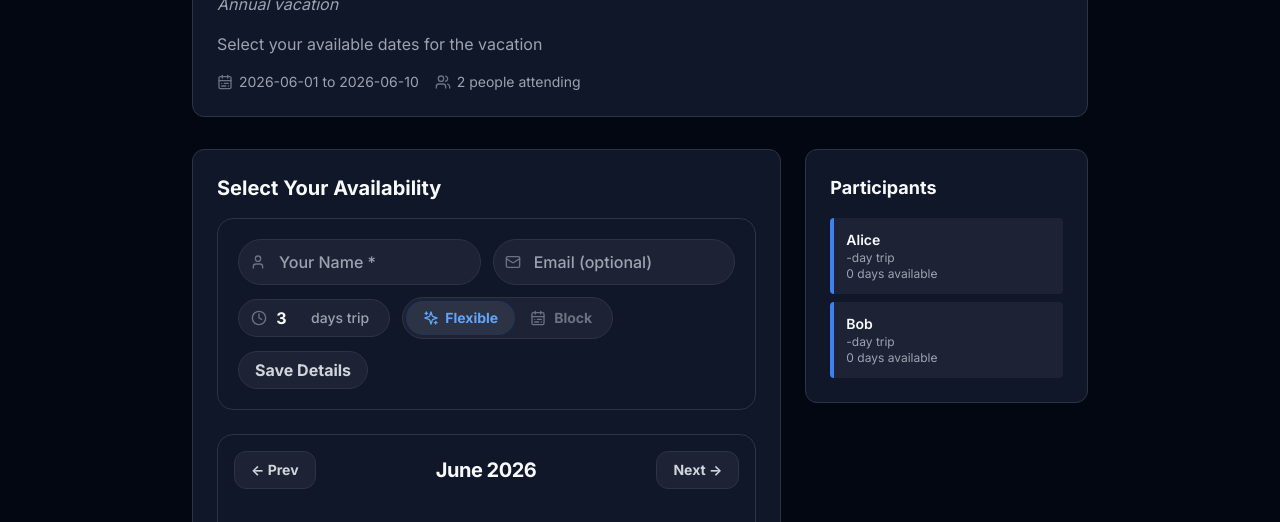
Test: ParticipantView - Duplicate Name Check › blocks submission and shows error if name already exists
Note: Fill in a duplicate name ("ALICE" vs "Alice")
Type "ALICE" into the field with placeholder "Your Name *" at (359, 262), box x1=238 y1=239 x2=481 y2=285
(page scrolled)
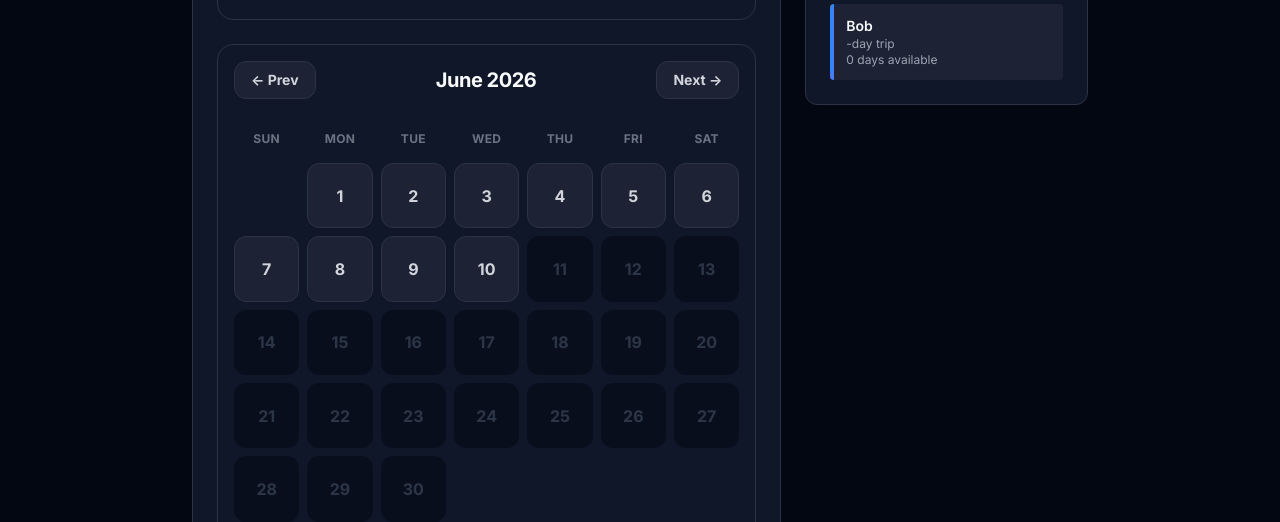
Note: Select a day to enable the Submit button
Click the button with test id "day-2026-06-01" at (340, 196), box x1=307 y1=163 x2=373 y2=228
(page scrolled)
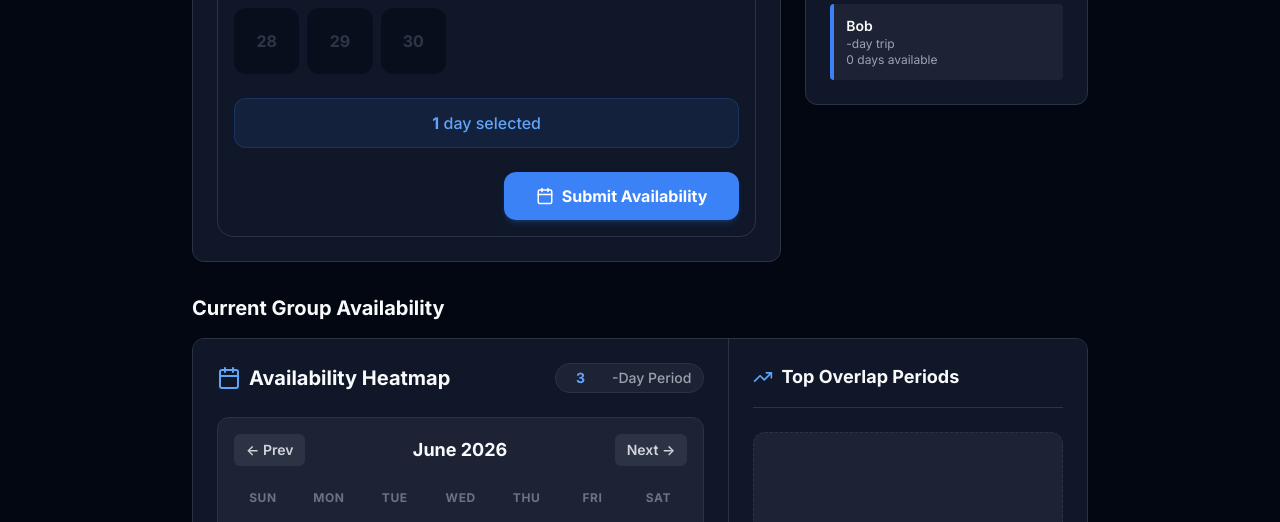
Note: Submit the form
Click the button "Submit Availability" at (622, 196), box x1=504 y1=172 x2=739 y2=220
(page scrolled)
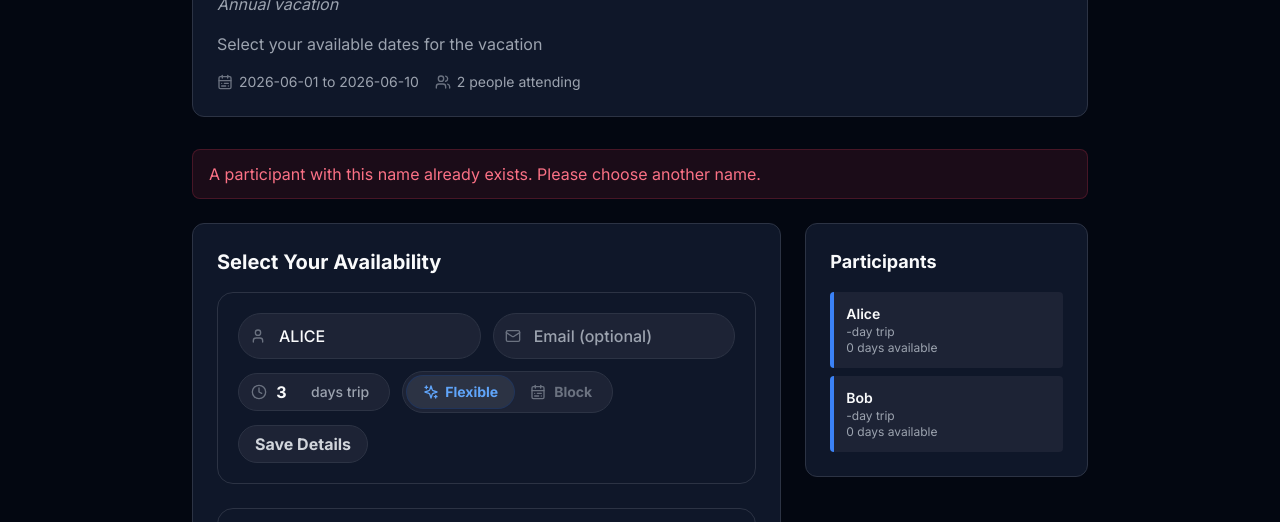
Expected: the text "A participant with this name already exists" is shown, x1=209 y1=164 x2=761 y2=184
